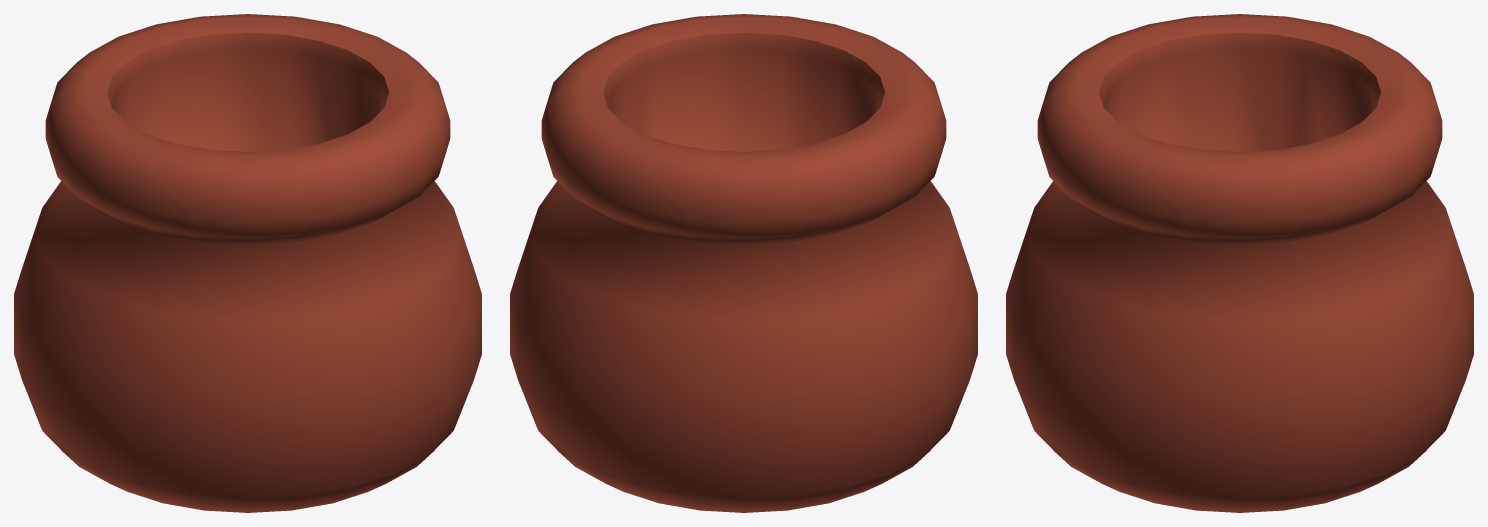
File: pote_natal_barro_pacote.glb
The picture shows the model from 3 angles, left to right: view 1: azimuth 30°, elevation 25°; view 2: azimuth 150°, elevation 25°; view 3: azimuth 270°, elevation 25°; orthographic projection.
Parts seen in each view (by area): view 1: pote_natal_barro_pacote; view 2: pote_natal_barro_pacote; view 3: pote_natal_barro_pacote.
Part boxes in pixels (x1,y1,x2,y2): pote_natal_barro_pacote: (14,14,481,512); pote_natal_barro_pacote: (510,14,977,512); pote_natal_barro_pacote: (1006,14,1473,512).
Bounding box in the file's own units: 0.1739 × 0.148 × 0.1739.
Materials: 1 (1 with a texture image).
